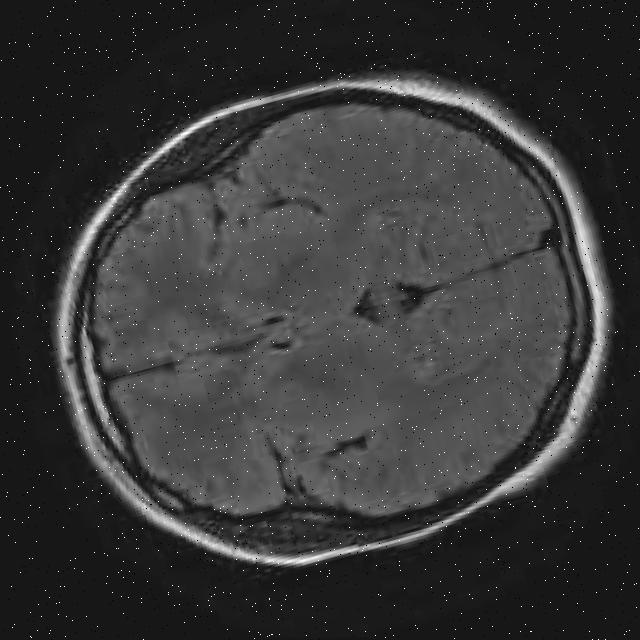NoTumor: (41, 46, 620, 584)
